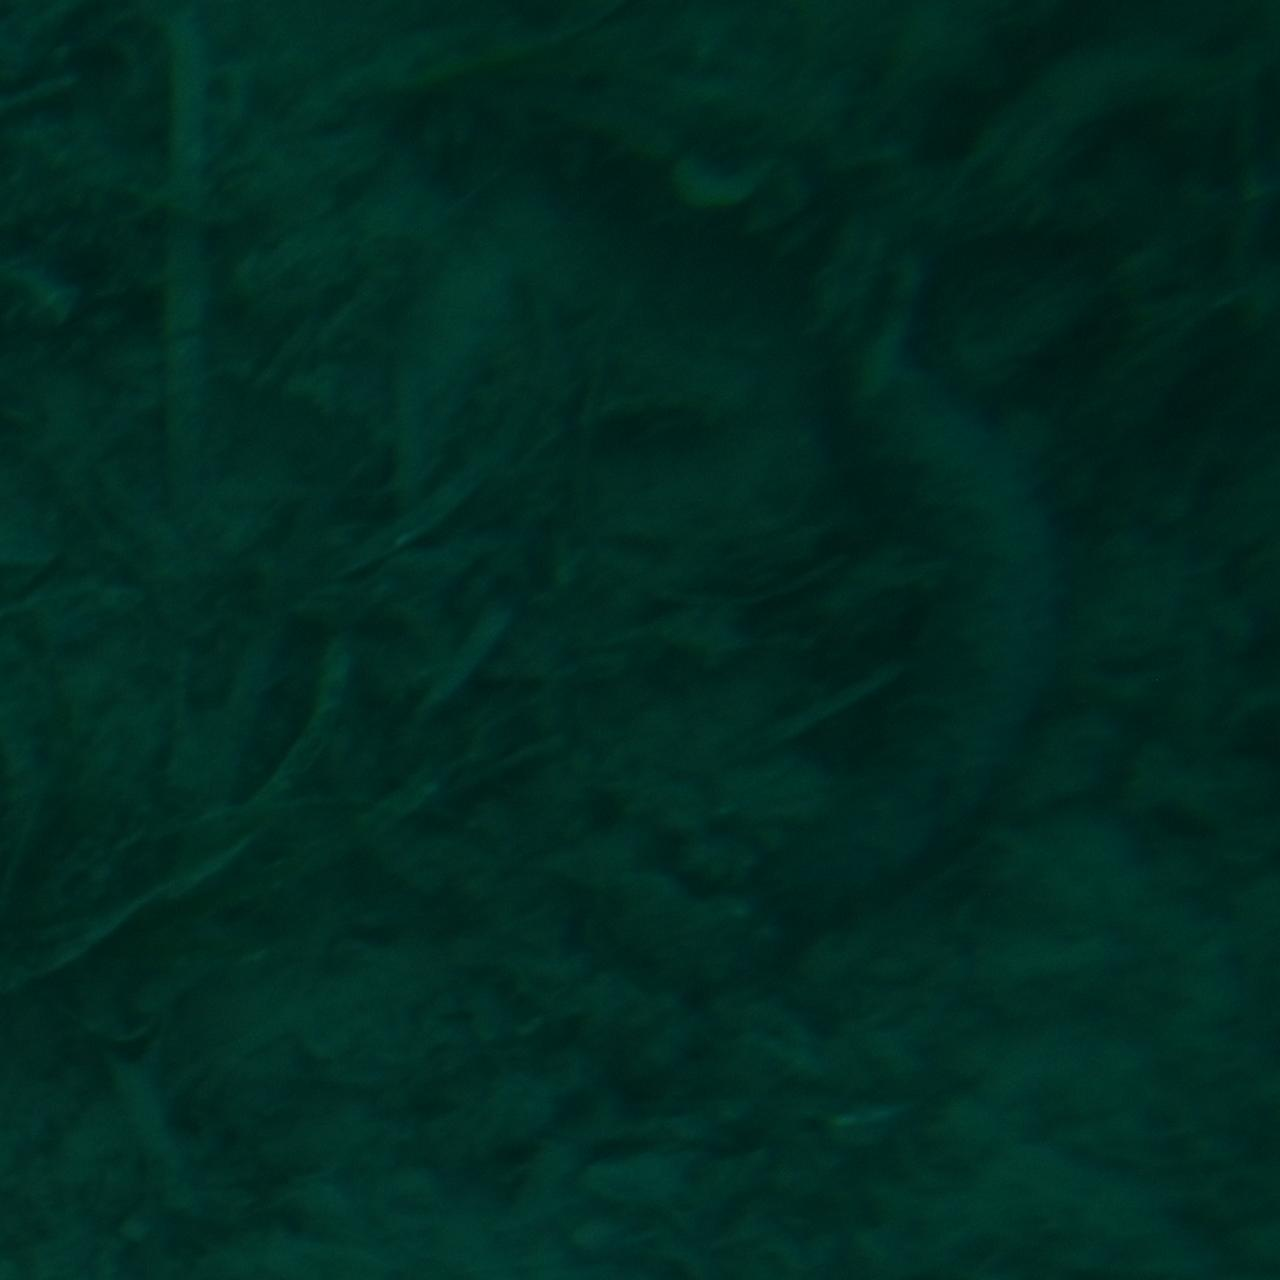Holothuria tubulosa: (731, 338, 1062, 942)
